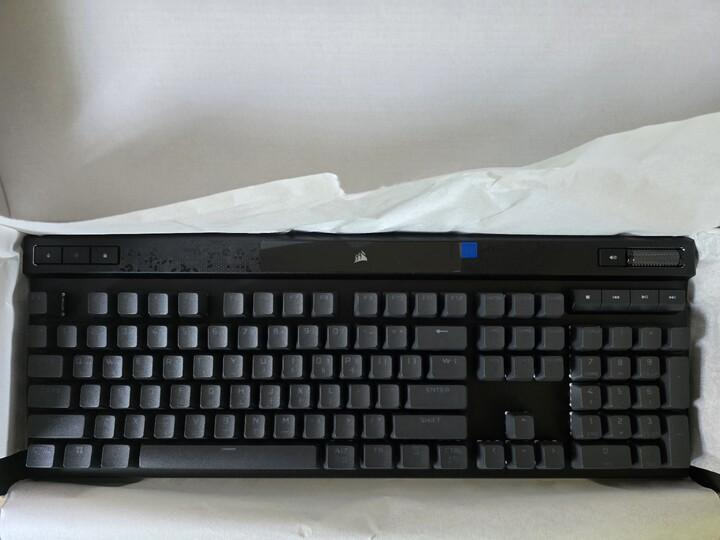keyboard: (22, 232, 696, 480)
